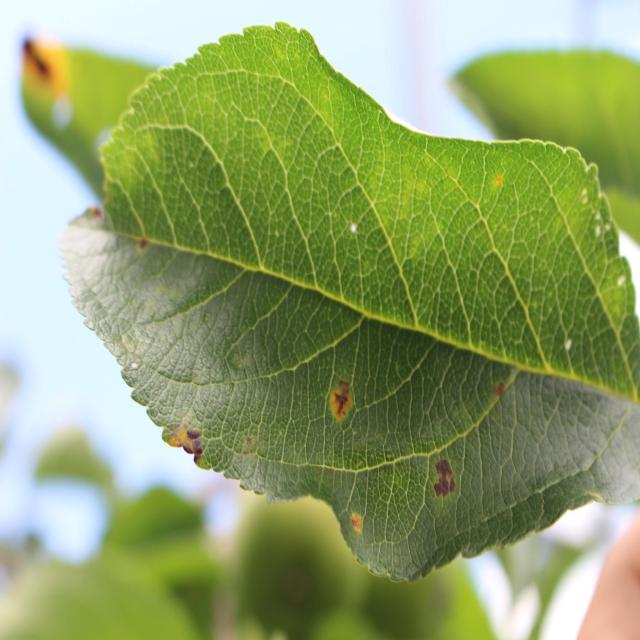Rust: (14, 22, 79, 115), (166, 419, 205, 483), (432, 450, 459, 509), (326, 380, 354, 430), (348, 507, 366, 545), (494, 164, 510, 194), (494, 372, 508, 405), (88, 200, 105, 227), (132, 232, 150, 252)
